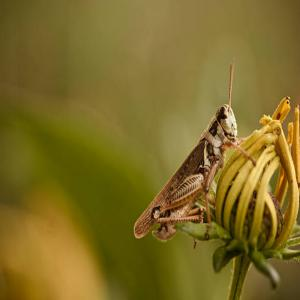locust: (135, 87, 250, 247)
